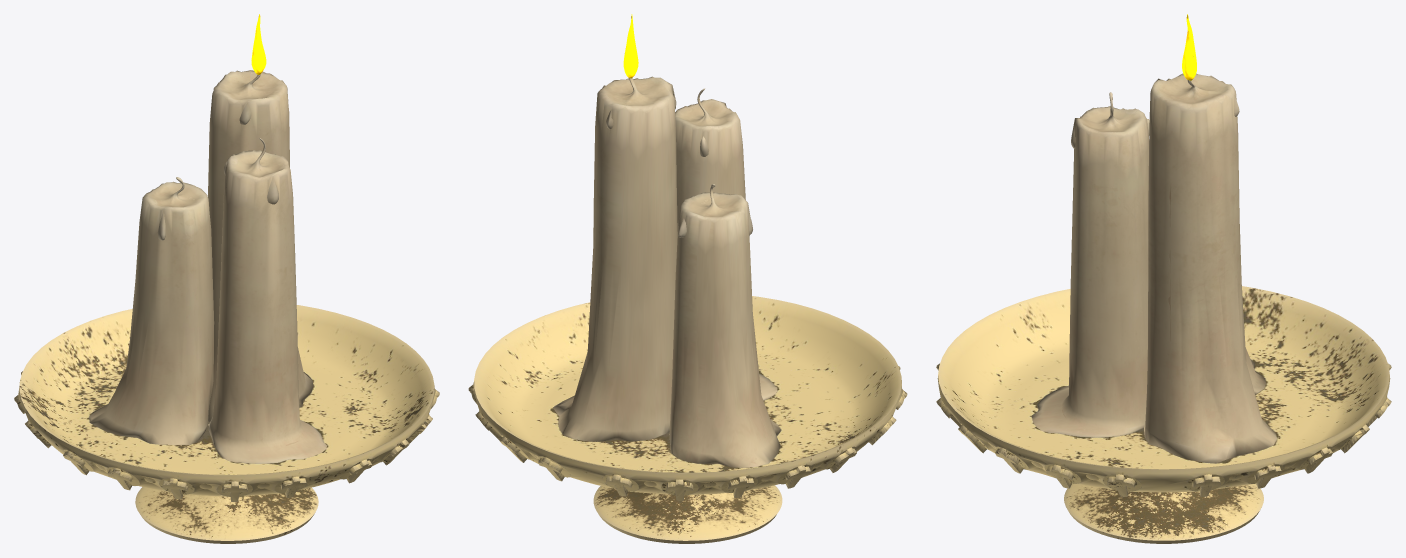
File: obj_three_candles_and_a_golden_c_9d46da.glb
3 renders of one model, left to right at view 1: azimuth 30°, elevation 25°; view 2: azimuth 150°, elevation 25°; view 3: azimuth 270°, elevation 25°, orthographic. The views are drawn at different scales.
Visible parts, largest first — view 1: obj_three_candles_and_a_golden_c_9d46da; view 2: obj_three_candles_and_a_golden_c_9d46da; view 3: obj_three_candles_and_a_golden_c_9d46da.
Part boxes in pixels (x1,y1,x2,y2): obj_three_candles_and_a_golden_c_9d46da: [14, 14, 439, 543]; obj_three_candles_and_a_golden_c_9d46da: [468, 14, 907, 543]; obj_three_candles_and_a_golden_c_9d46da: [936, 14, 1391, 543].
Bounding box in the file's own units: 0.2 × 0.25 × 0.2014.
Materials: 3 (3 with a texture image).
